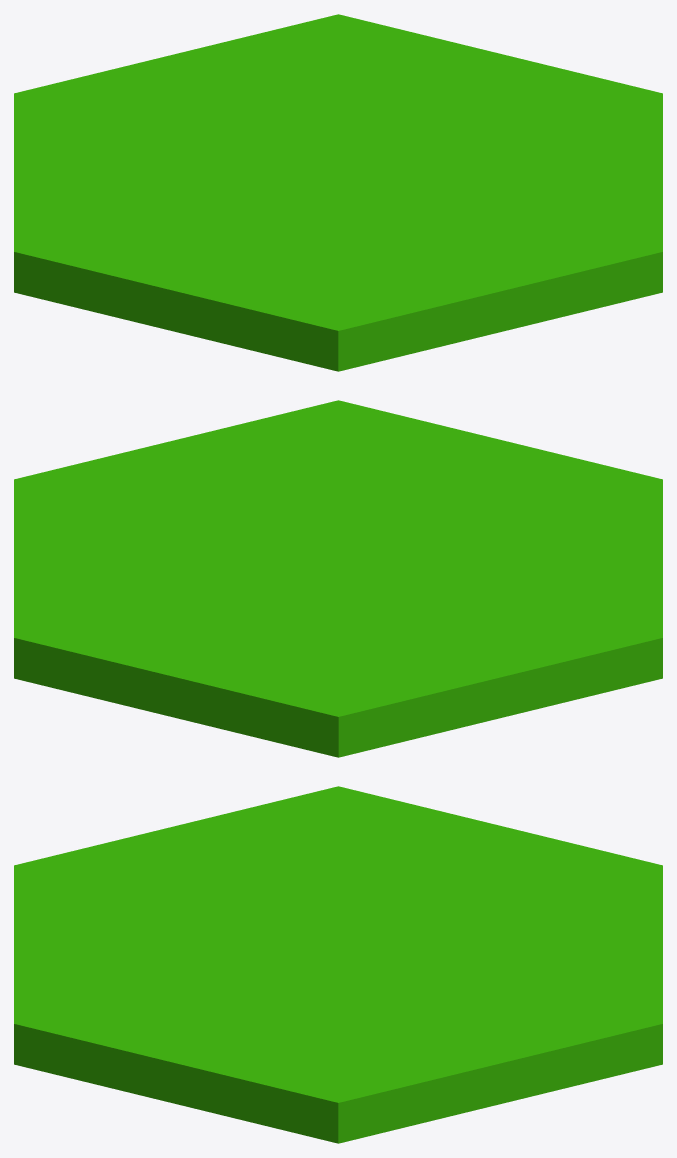
The model's file is BaseTile.fbx.
3 renders of one model, top to bottom at view 1: azimuth 30°, elevation 25°; view 2: azimuth 150°, elevation 25°; view 3: azimuth 270°, elevation 25°, orthographic.
Parts seen in each view (by area): view 1: BaseHexagon; view 2: BaseHexagon; view 3: BaseHexagon.
Boxes of the visible parts, x1=… form: BaseHexagon: x1=14, y1=14, x2=662, y2=371; BaseHexagon: x1=14, y1=400, x2=662, y2=757; BaseHexagon: x1=14, y1=786, x2=662, y2=1143.
Bounding box in the file's own units: 20000 × 17320 × 1200.
